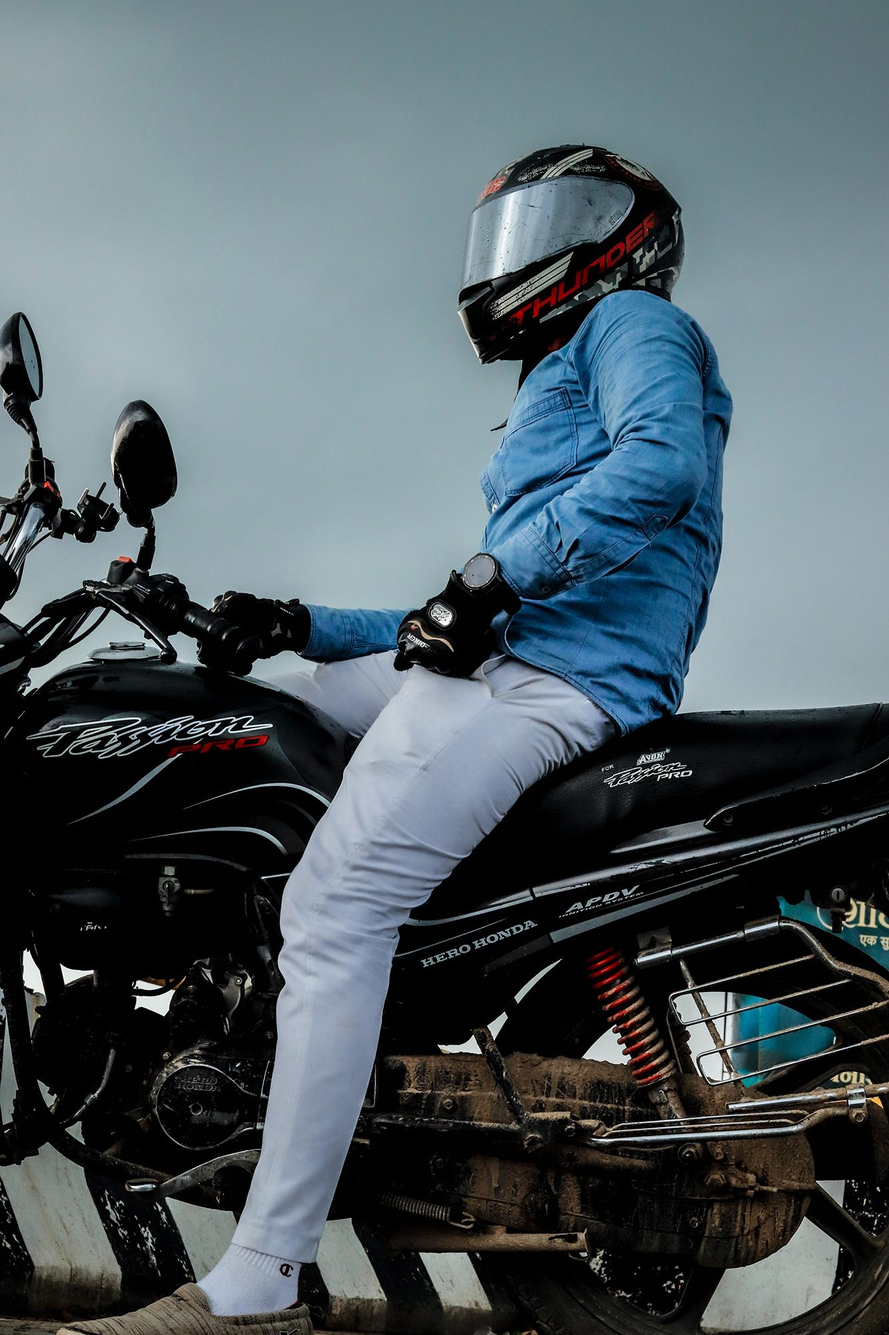helmet: (456, 142, 686, 366)
